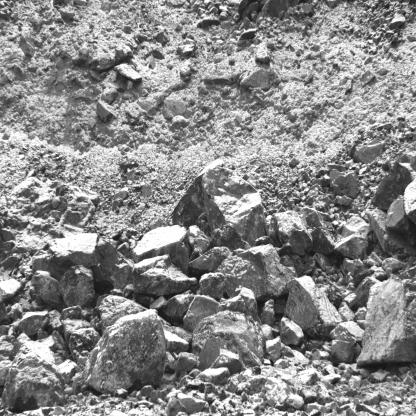stone: (79, 310, 168, 394), (34, 233, 132, 291), (201, 167, 267, 248), (358, 276, 416, 366), (2, 339, 69, 408), (190, 309, 266, 364), (223, 245, 293, 299), (282, 272, 342, 334), (132, 256, 198, 297), (133, 223, 188, 270), (167, 168, 210, 227), (370, 160, 415, 210), (371, 211, 412, 263), (273, 209, 312, 253), (60, 265, 95, 306), (183, 295, 223, 328), (388, 196, 416, 243), (164, 290, 196, 324), (71, 328, 100, 365), (32, 271, 62, 306), (211, 223, 245, 252), (189, 247, 233, 269), (333, 233, 367, 259), (353, 135, 382, 165), (329, 321, 365, 345), (353, 276, 377, 308), (308, 226, 335, 253), (198, 272, 225, 298), (187, 224, 212, 250), (333, 172, 358, 198), (280, 317, 304, 344), (328, 339, 355, 363), (163, 329, 189, 353), (0, 278, 24, 302), (404, 176, 416, 223), (174, 352, 198, 374), (199, 367, 230, 383), (266, 336, 283, 362), (260, 297, 275, 326), (305, 212, 329, 230)
